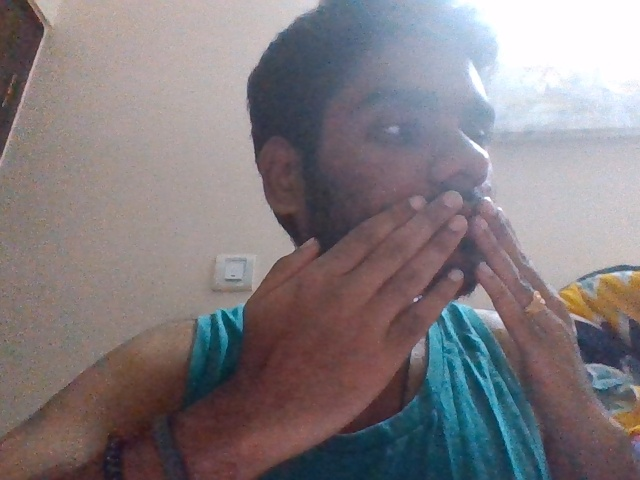thank you: (221, 187, 627, 416)
